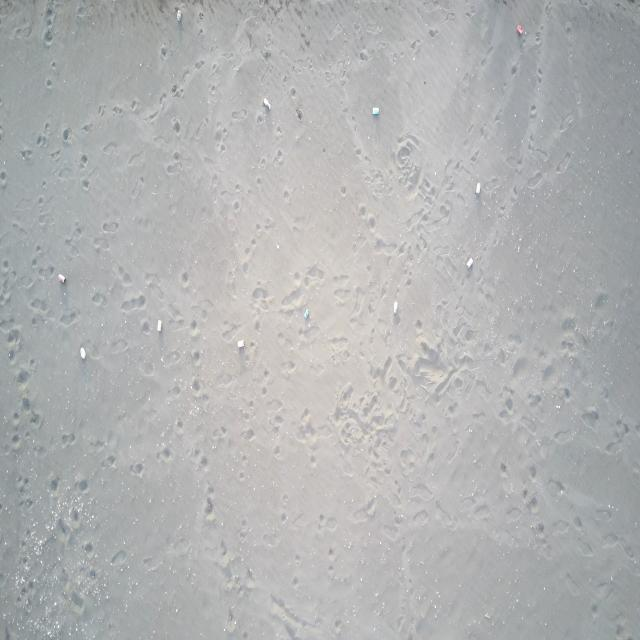tin-and-aluminum-cans: (263, 97, 272, 111), (392, 300, 399, 316), (58, 274, 68, 285), (466, 258, 474, 271), (176, 7, 182, 24), (80, 345, 86, 361), (371, 106, 380, 116), (236, 338, 245, 348), (157, 318, 163, 333), (516, 25, 524, 36), (476, 180, 481, 197), (304, 307, 309, 320)
